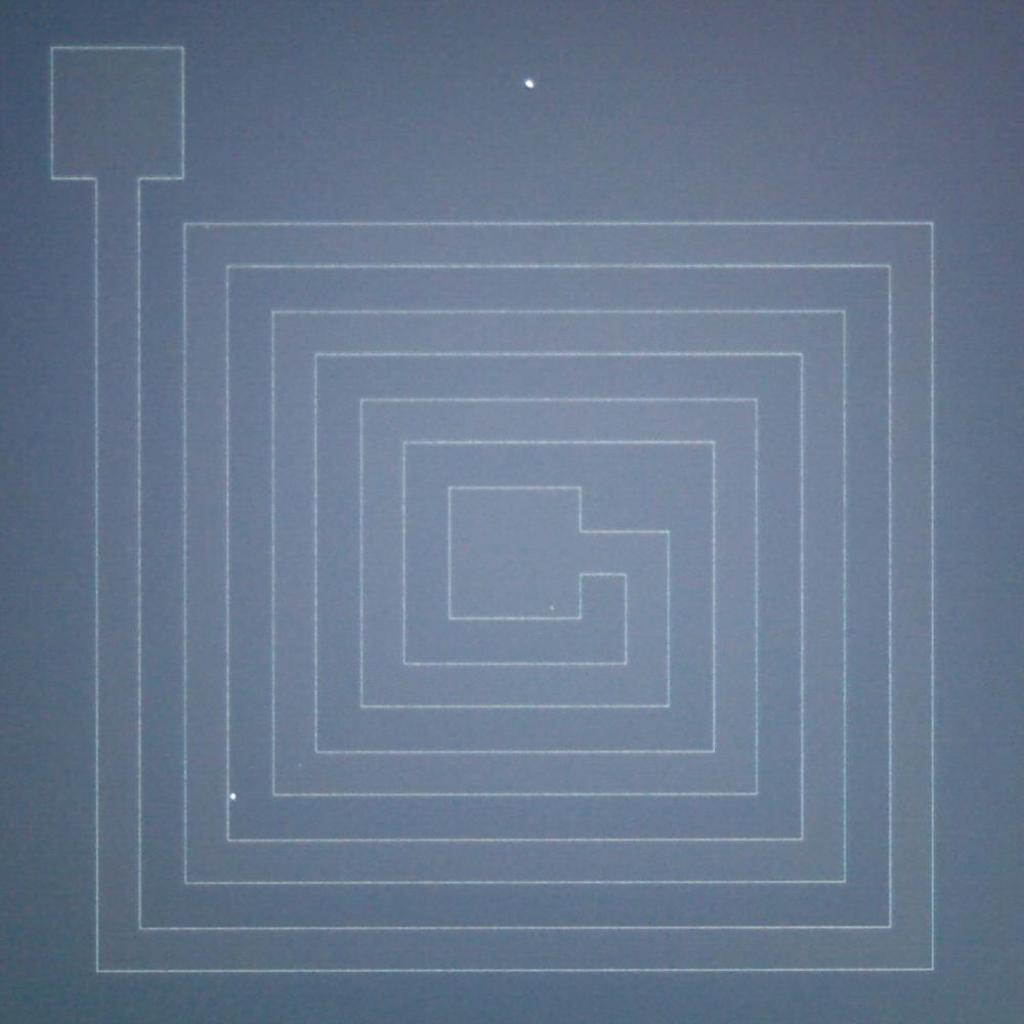dot: (526, 80, 534, 88), (230, 793, 236, 799)
